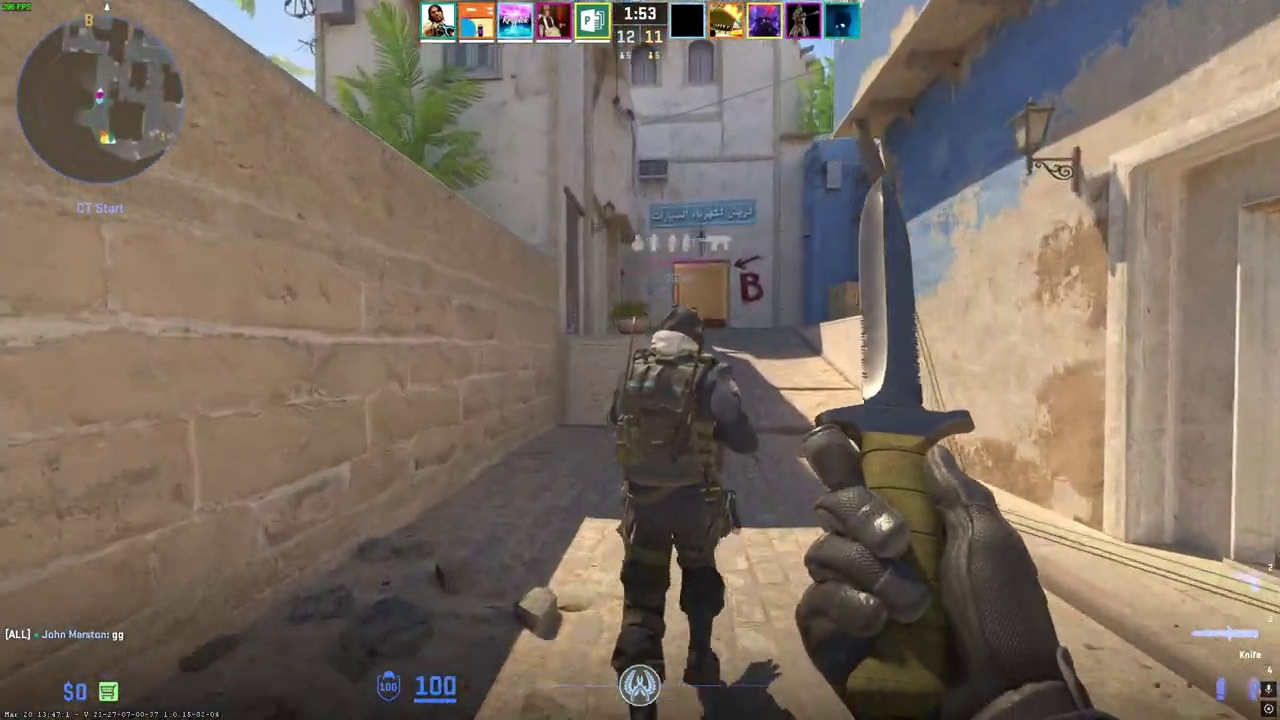CT: (605, 304, 756, 690)
